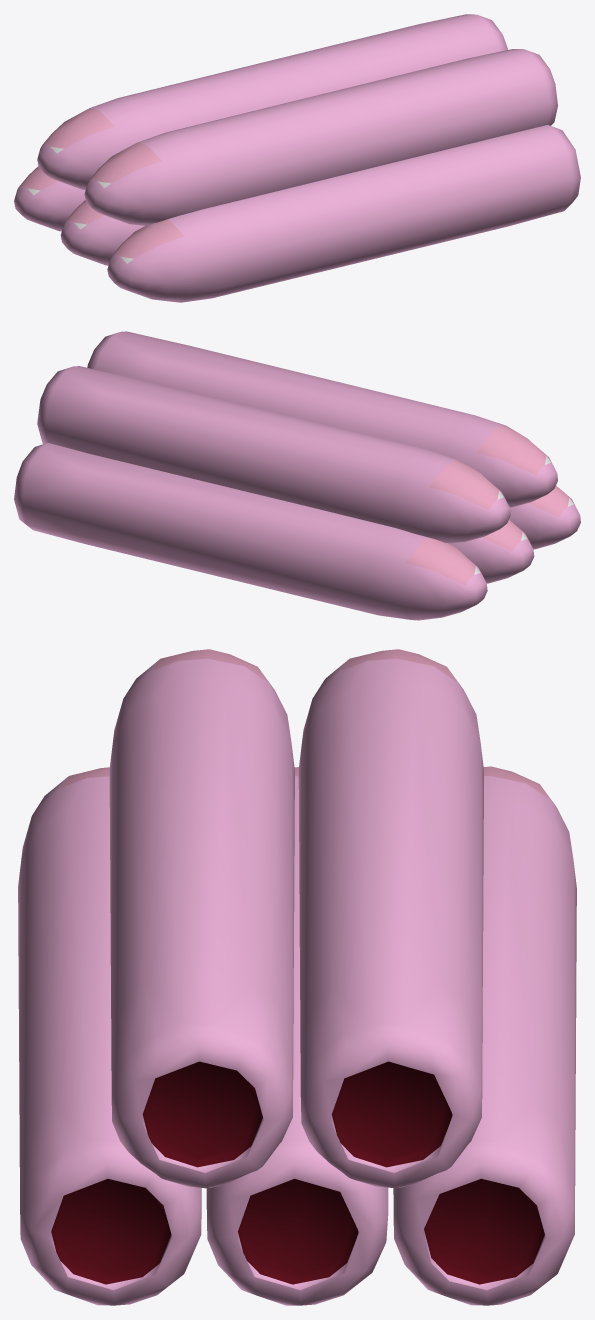
File: fingies.fbx
3 renders of one model, top to bottom at view 1: azimuth 30°, elevation 25°; view 2: azimuth 150°, elevation 25°; view 3: azimuth 270°, elevation 25°, orthographic. The views are drawn at different scales.
Parts seen in each view (by area): view 1: Cube; view 2: Cube; view 3: Cube.
Part boxes in pixels (x1,y1,x2,y2): Cube: (14,14,580,302); Cube: (14,331,580,620); Cube: (18,649,576,1305).
Bounding box in the file's own units: 278 × 84.23 × 150.
